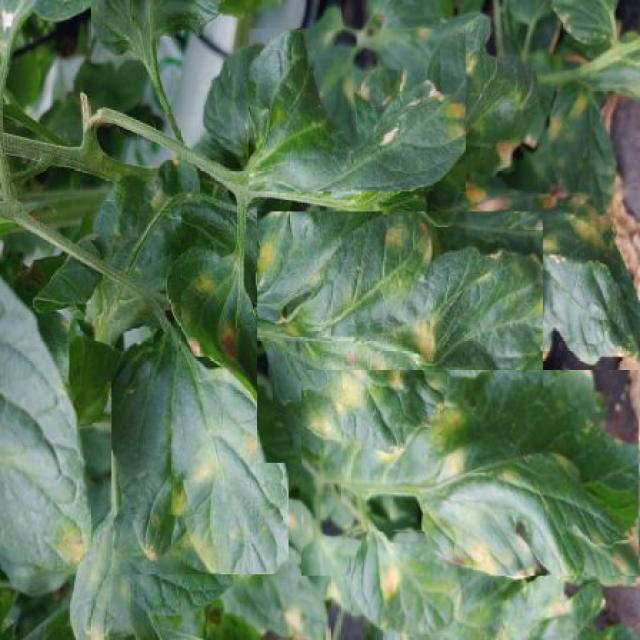Leaf Mold: (257, 211, 543, 463), (302, 371, 639, 576), (111, 329, 289, 574), (249, 29, 465, 191), (351, 532, 462, 634)
